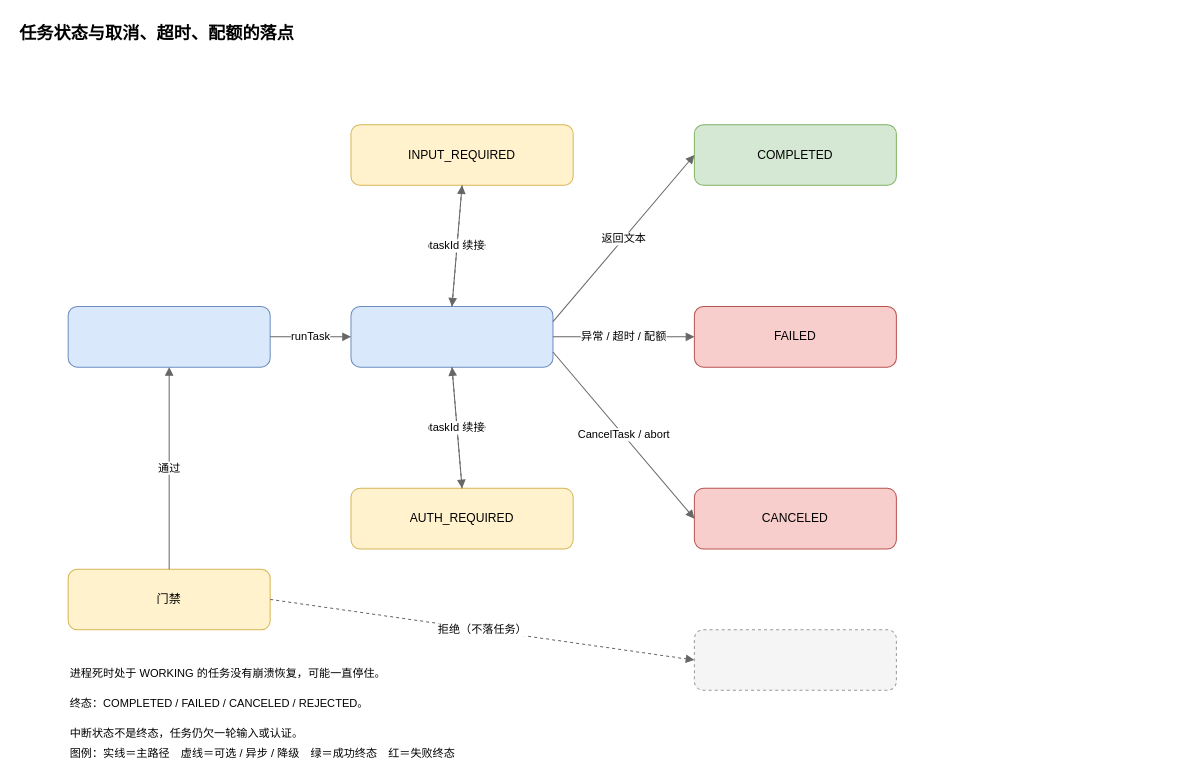
This 1186x782 diagram has some shape labels left out. The shapes that lost their labels are listed below. From the top down, each one's centre as x and y in pixels, then its label:
At point (168, 336): "SUBMITTED".
At point (451, 336): "WORKING".
At point (794, 659): "REJECTED".
